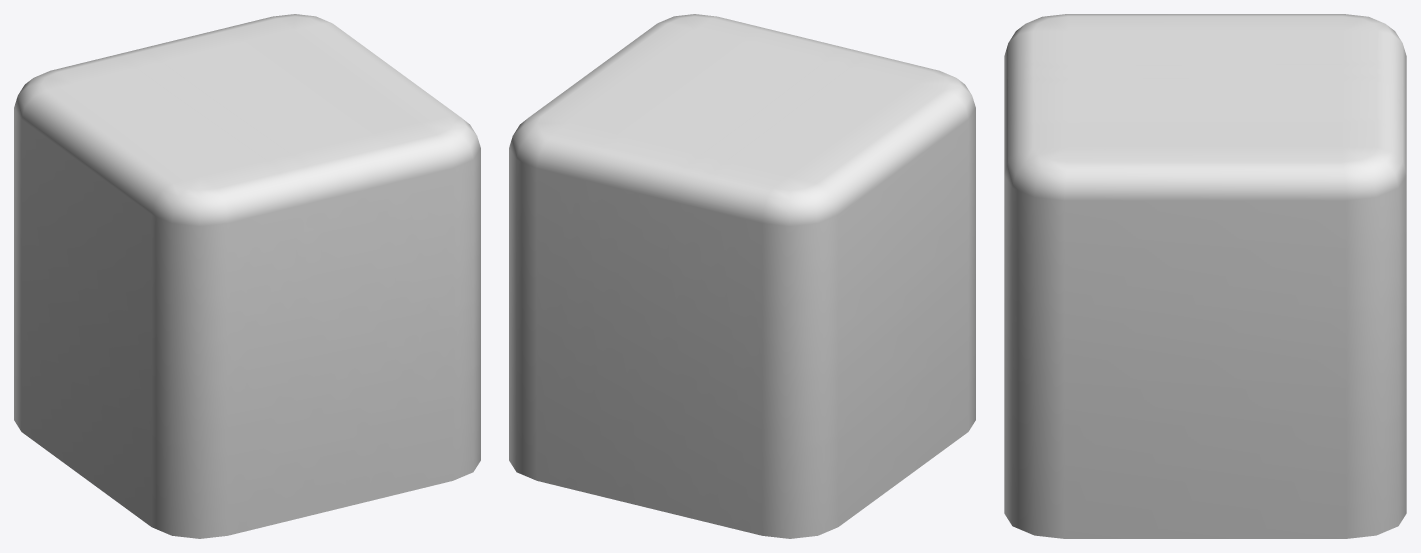
3 renders of one model, left to right at view 1: azimuth 30°, elevation 25°; view 2: azimuth 150°, elevation 25°; view 3: azimuth 270°, elevation 25°, orthographic. The views are drawn at different scales.
Visible parts, largest first — view 1: base_1; view 2: base_1; view 3: base_1.
Part boxes in pixels (x1,y1,x2,y2): base_1: (14,14,480,538); base_1: (509,14,975,538); base_1: (1004,14,1406,538).
Bounding box in the file's own units: 1000 × 1000 × 1000.
